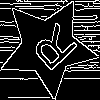R: (23, 22, 80, 80)
